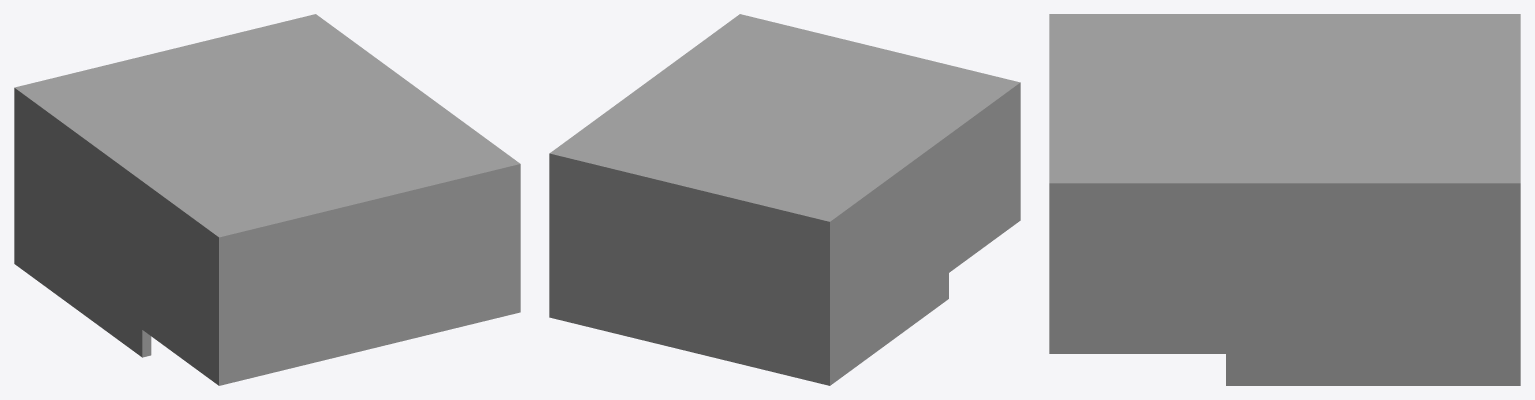
The model's file is cockpit-1.obj.
The picture shows the model from 3 angles, left to right: view 1: azimuth 30°, elevation 25°; view 2: azimuth 150°, elevation 25°; view 3: azimuth 270°, elevation 25°; orthographic projection. The views are drawn at different scales.
Size of the model in its own units: 3.4 by 1.9 by 4.
Materials: 1 (1 with a texture image).
